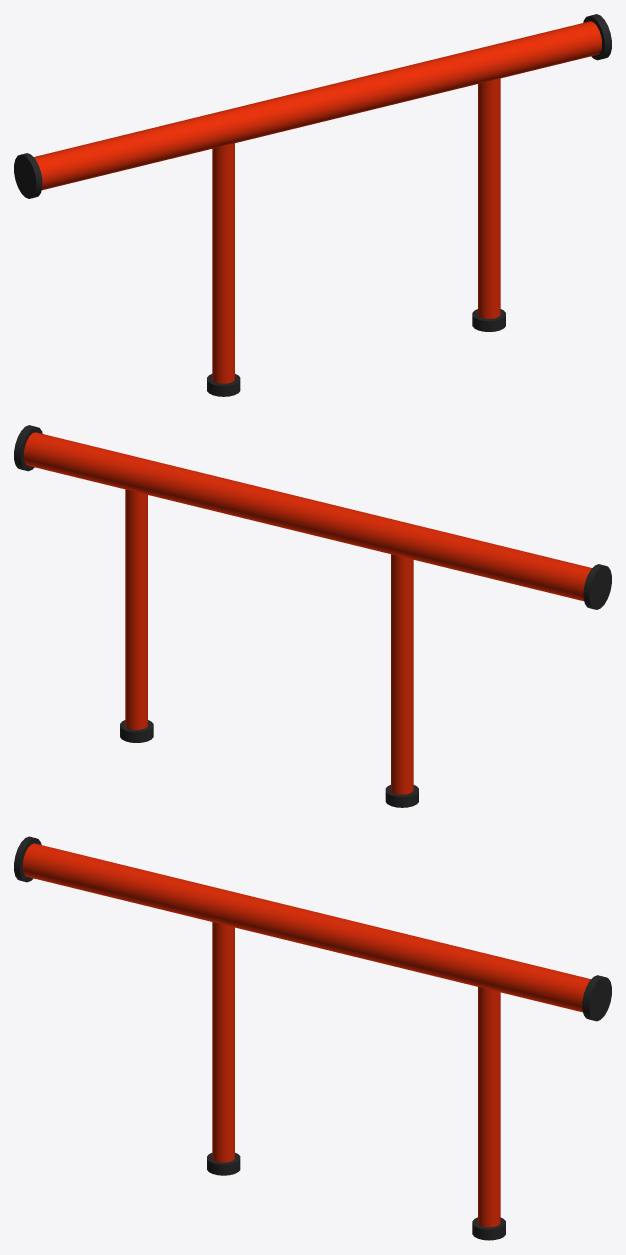
The model's file is S_assete_barrier_2.fbx.
The picture shows the model from 3 angles, top to bottom: view 1: azimuth 30°, elevation 25°; view 2: azimuth 150°, elevation 25°; view 3: azimuth 330°, elevation 25°; orthographic projection.
Parts seen in each view (by area): view 1: Cylinder021; view 2: Cylinder021; view 3: Cylinder021.
Boxes of the visible parts, x1,y1,x2,y2 form: Cylinder021: [14, 14, 611, 396]; Cylinder021: [14, 425, 611, 807]; Cylinder021: [14, 836, 611, 1240].
Bounding box in the file's own units: 230 × 108 × 15.55.
